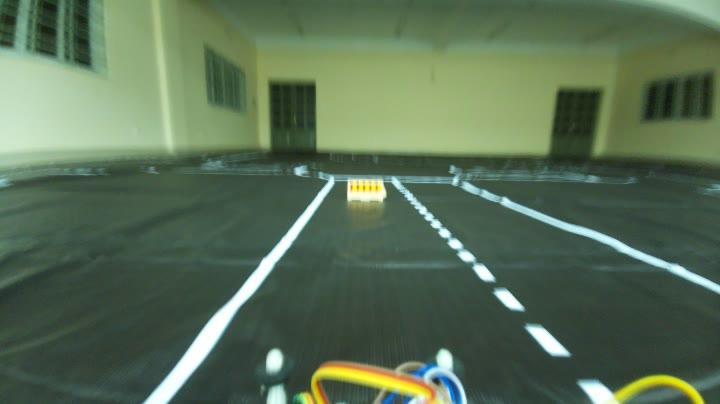roadblock: (344, 176, 388, 203)
